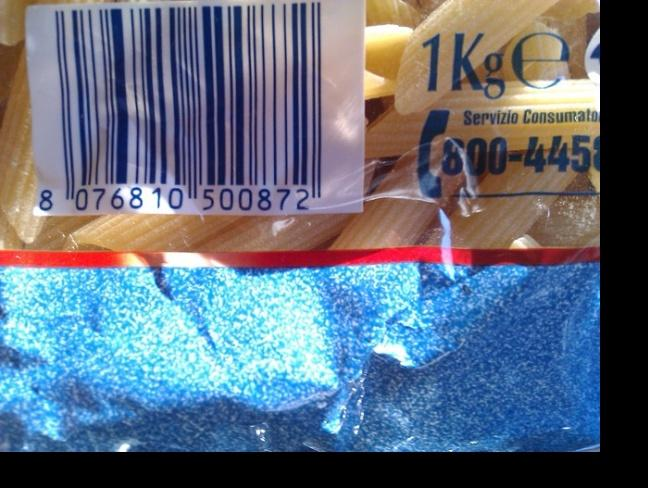Barcode: (30, 5, 325, 217)
